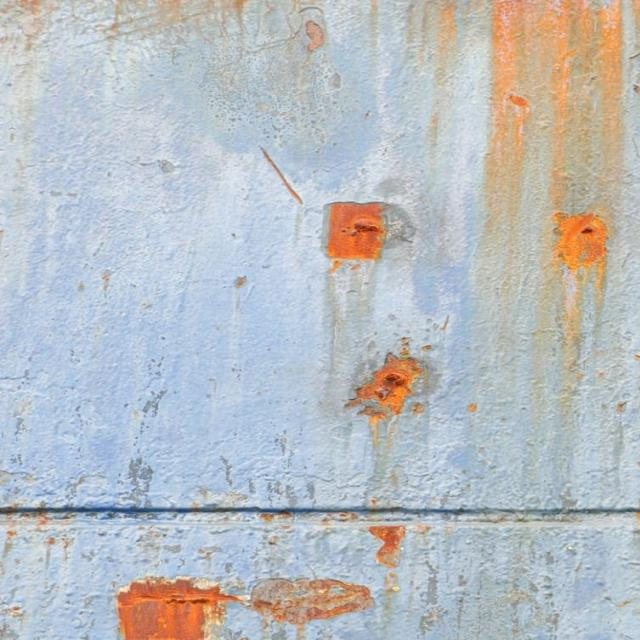Uniform Corrosion: (116, 578, 241, 639), (345, 348, 421, 425), (250, 579, 373, 626), (326, 202, 413, 260), (552, 212, 606, 272), (368, 526, 405, 568)
